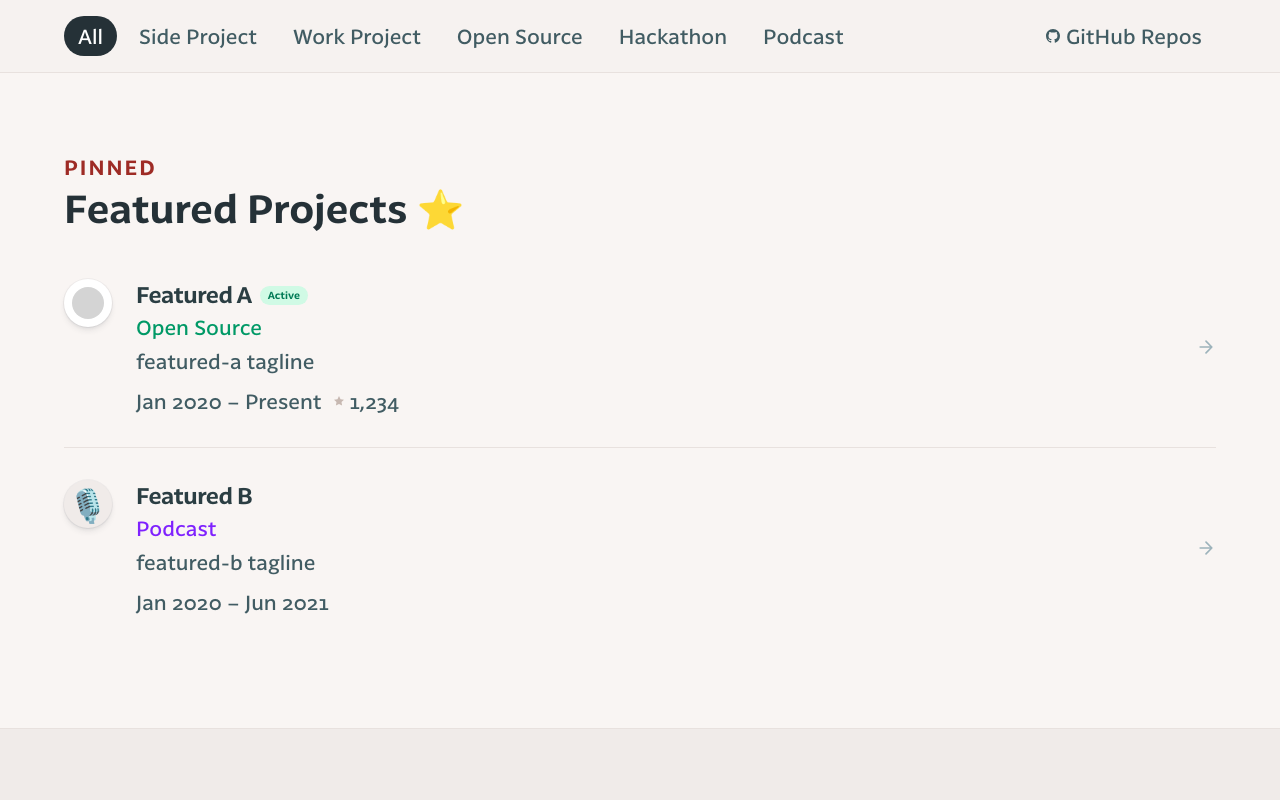
it: ProjectsGridClient › filters by category tab
Click the button "Hackathon" at {"x": 673, "y": 36}, box [605,16,741,56]
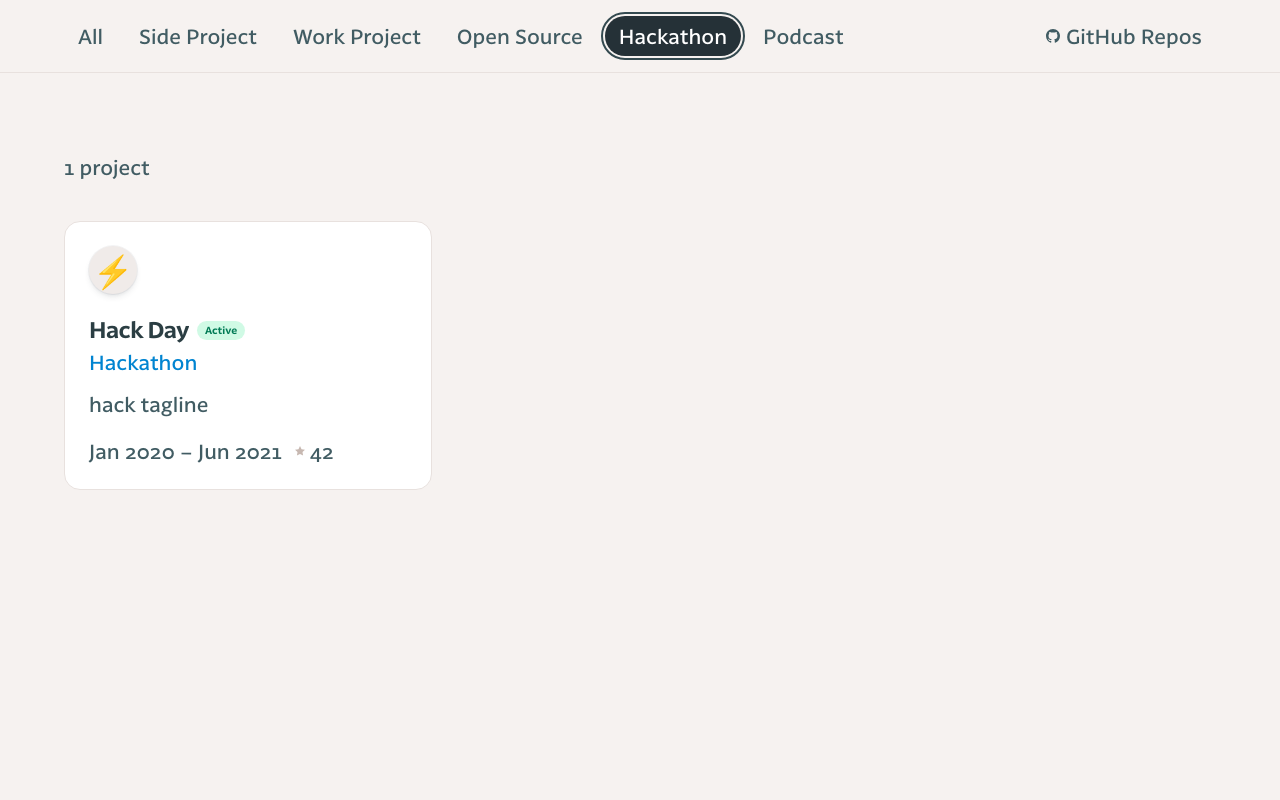
Check: the text "Pinned" is gone
Check: the text "1 project" is shown, box [64,155,150,179]
Click the button "Side Project" at {"x": 198, "y": 36}, box [125,16,271,56]
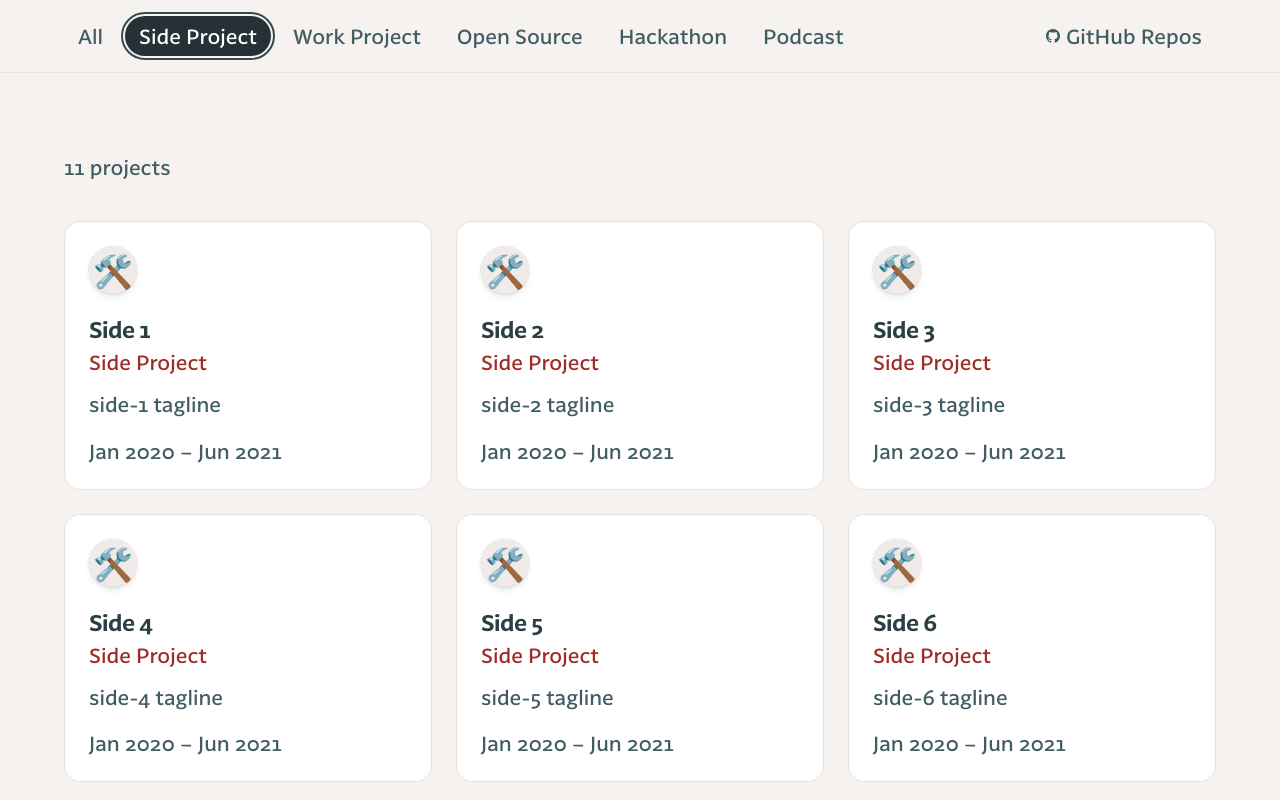
Check: the text "11 projects" is shown, box [64,155,170,179]
Click the button "All" at {"x": 91, "y": 36}, box [64,16,117,56]
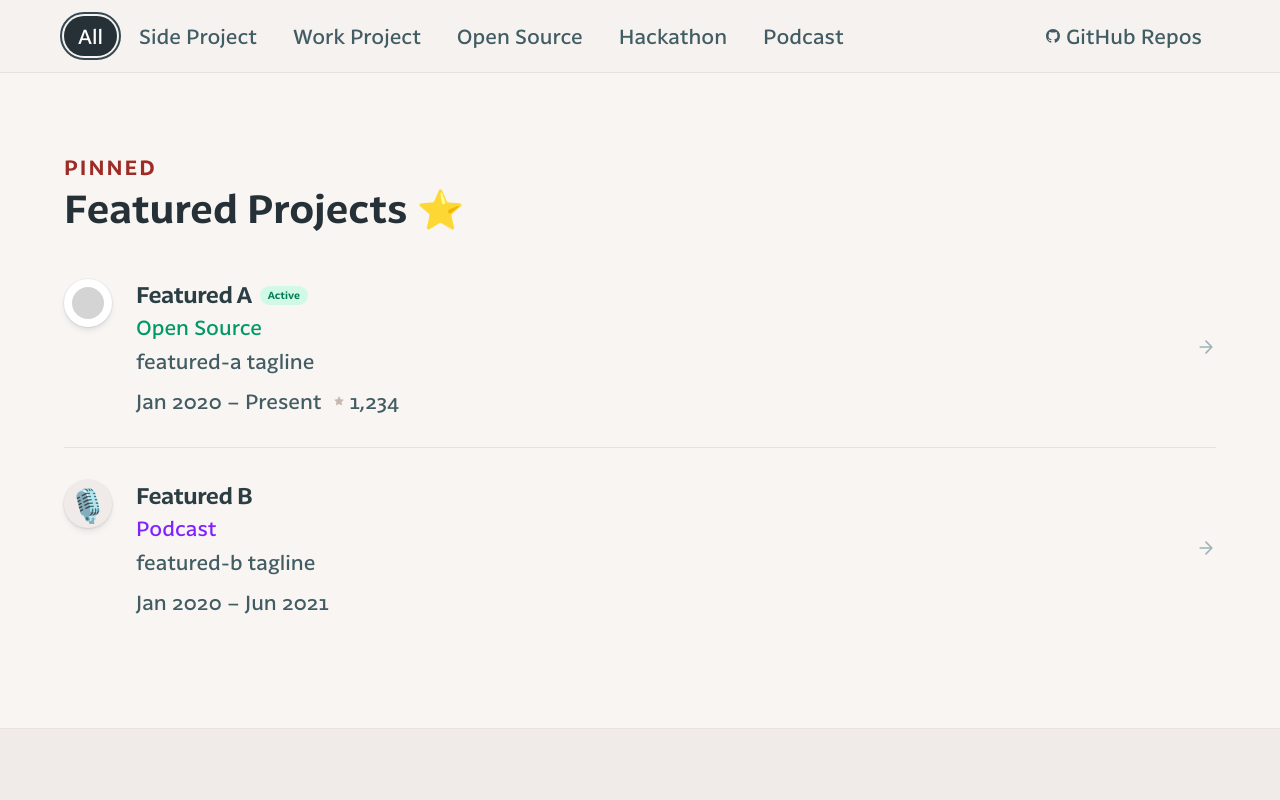
Check: the text "Pinned" is shown, box [64,155,157,179]
